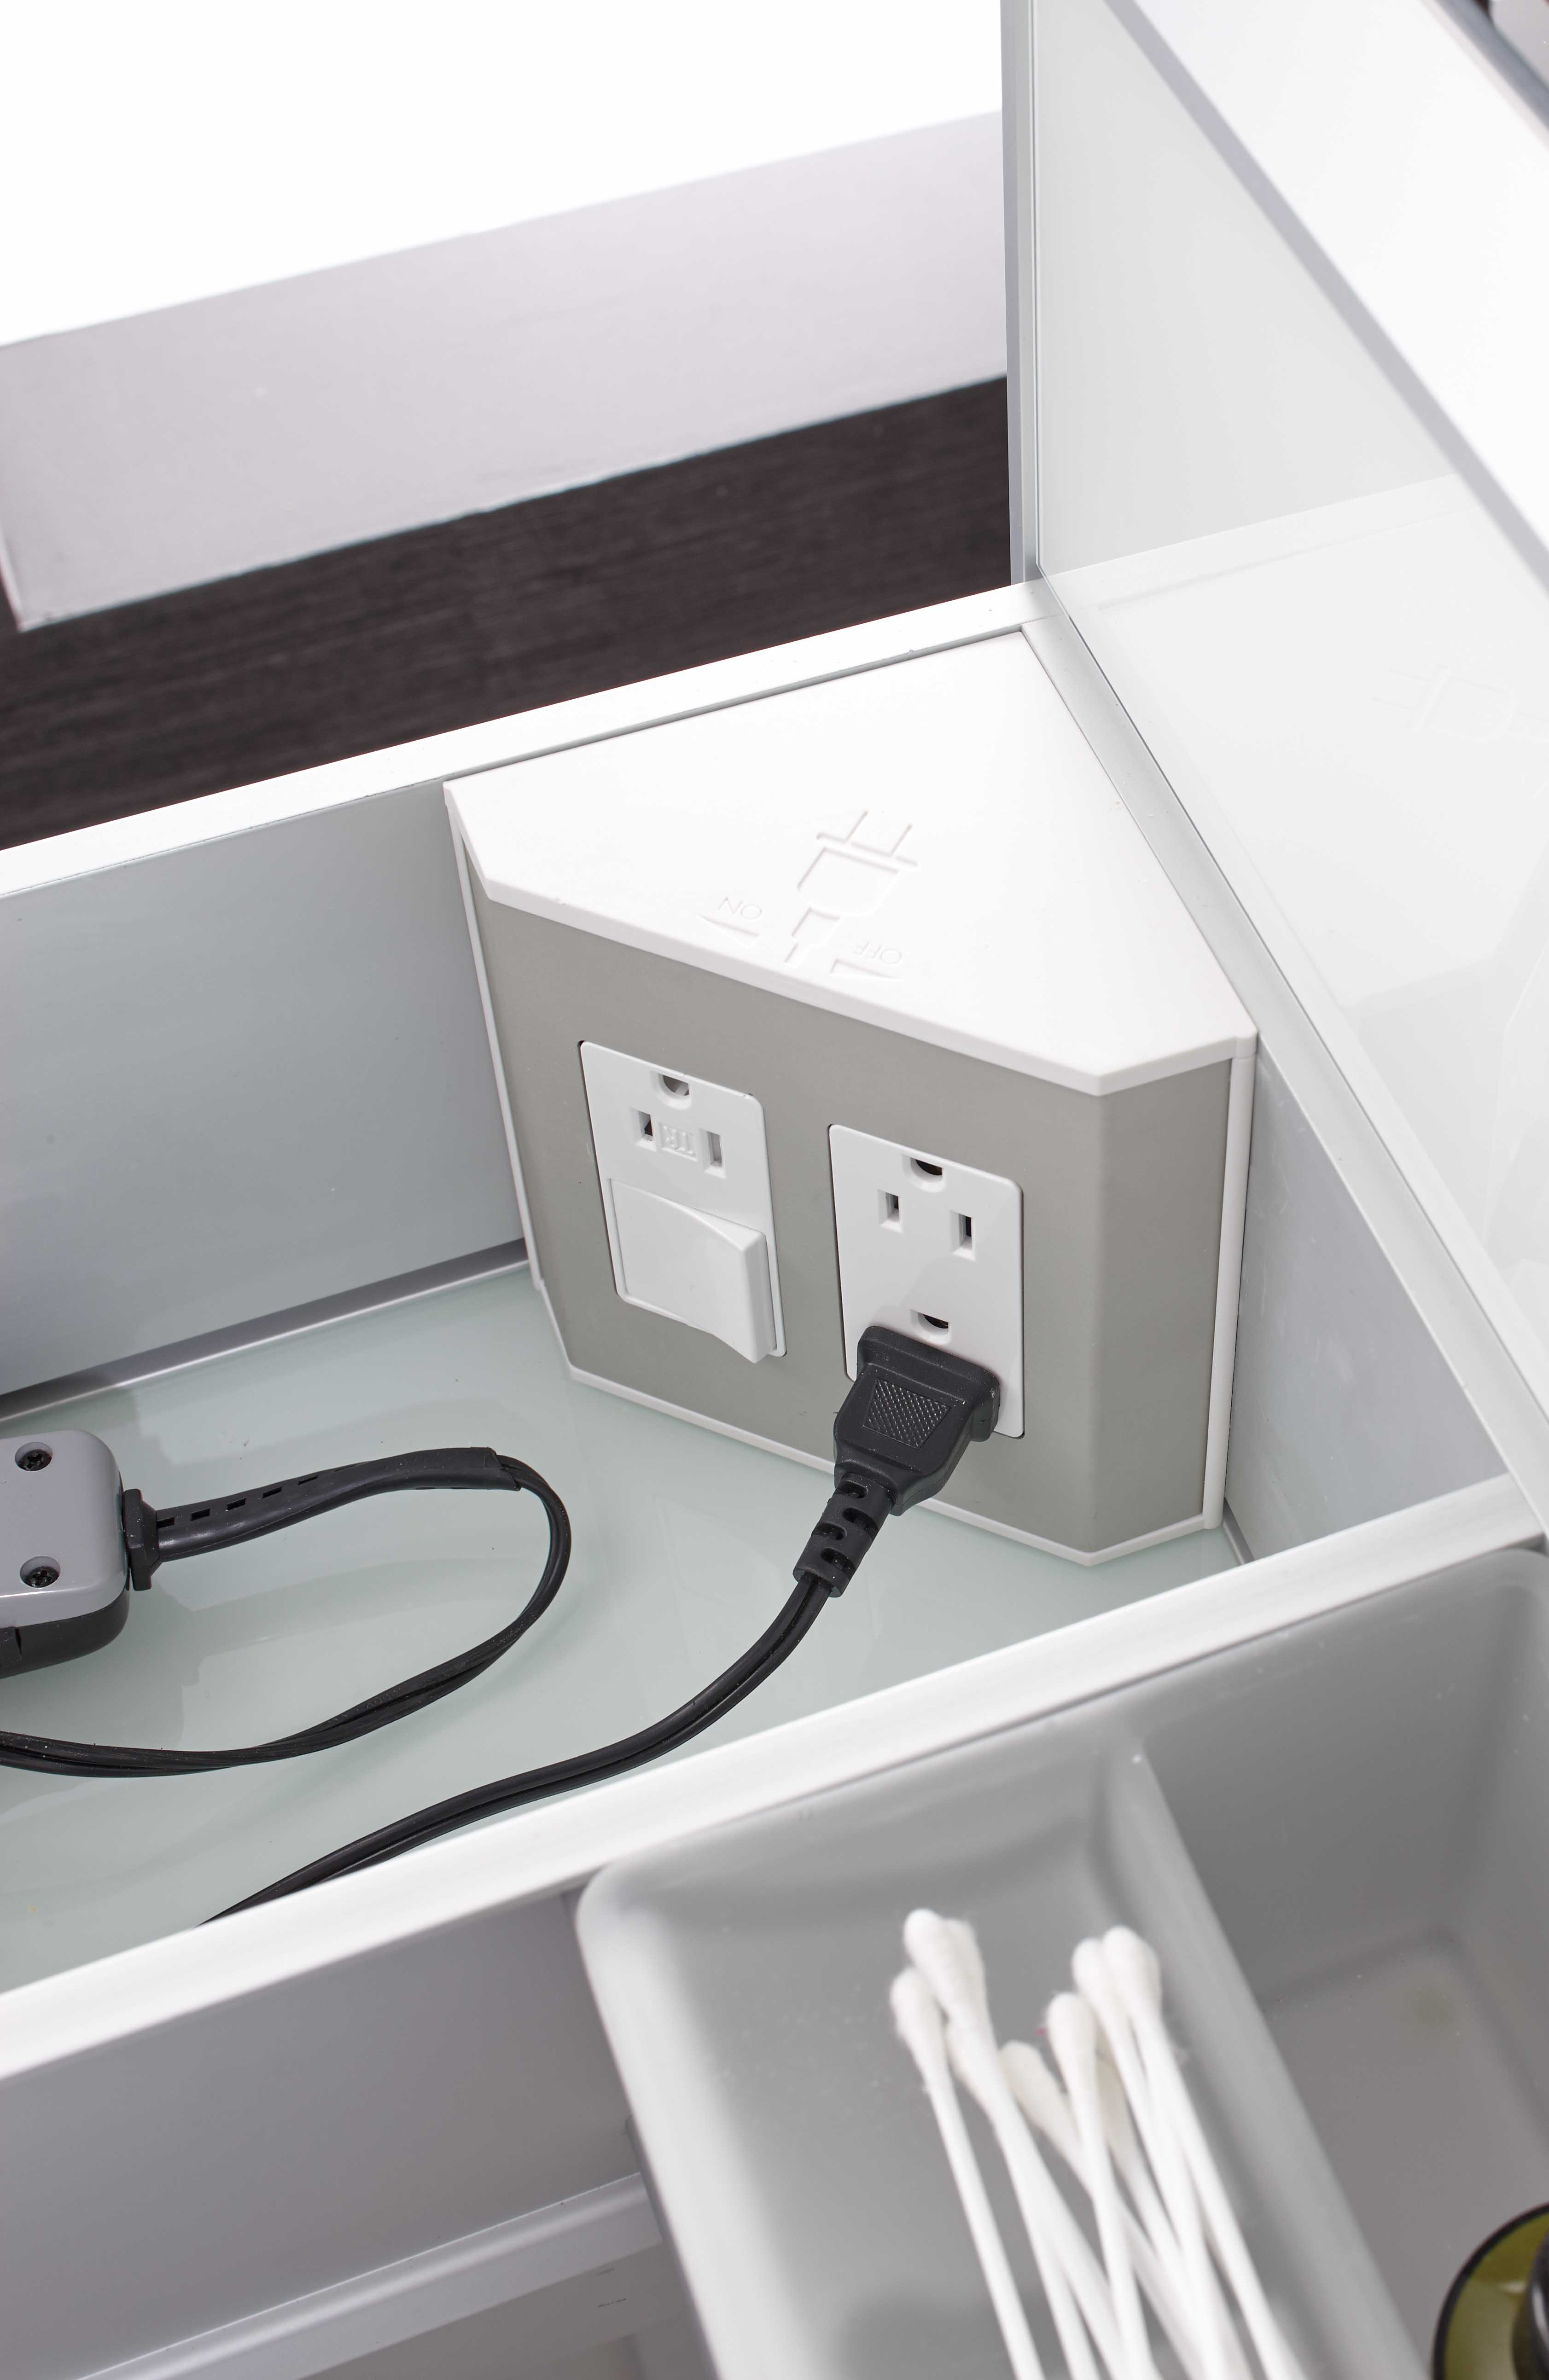outlet: (595, 1041, 761, 1193), (850, 1126, 1010, 1275)
